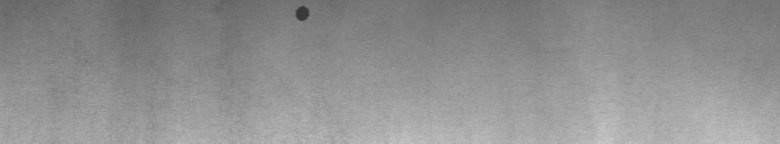fi: (289, 4, 316, 28)
